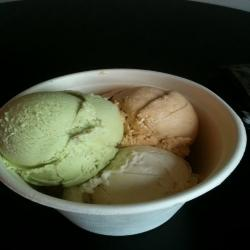icecream: (5, 64, 221, 231)
